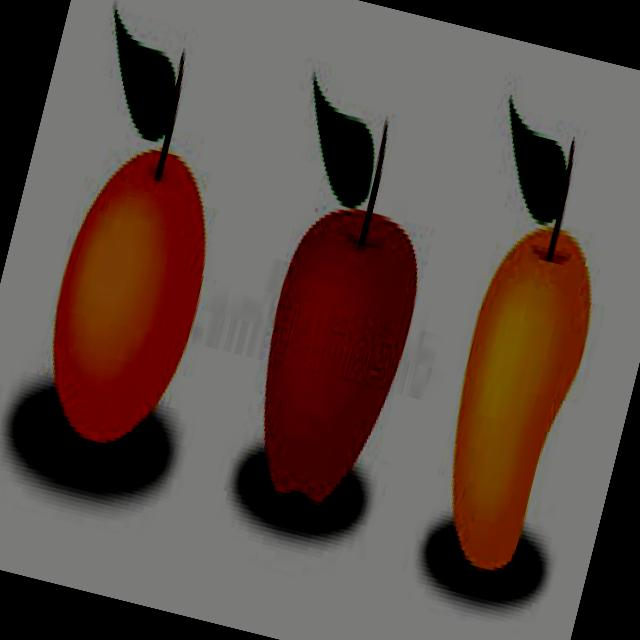Apple: (231, 197, 434, 519)
Mango: (416, 212, 612, 580)
Orange: (24, 129, 232, 461)
